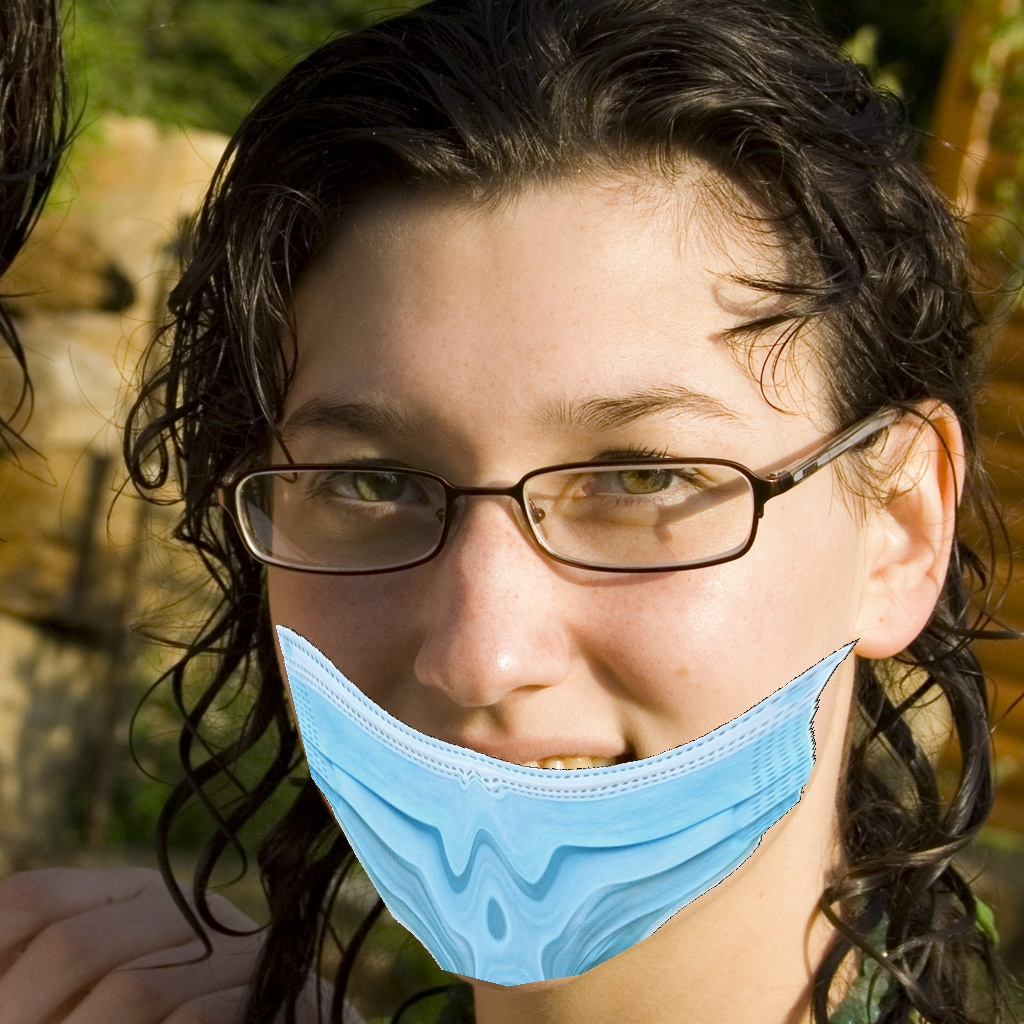mask_weared_incorrect: (229, 378, 903, 998)
